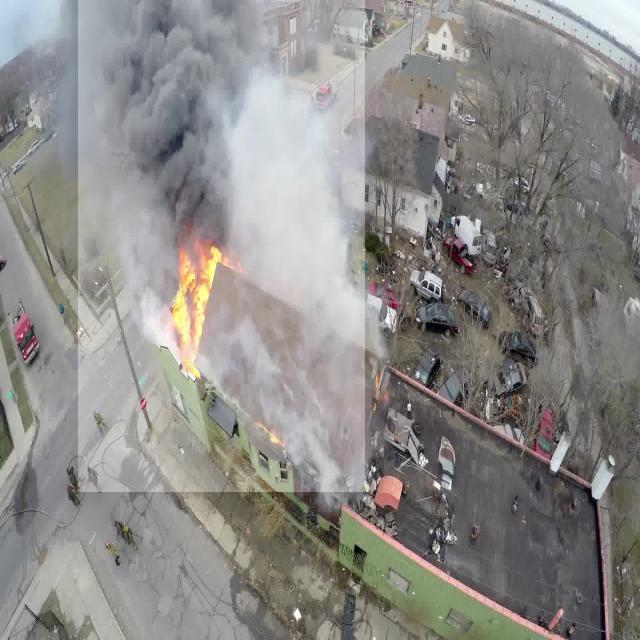Fire: (170, 239, 350, 483)
Smoke: (78, 0, 365, 492)
